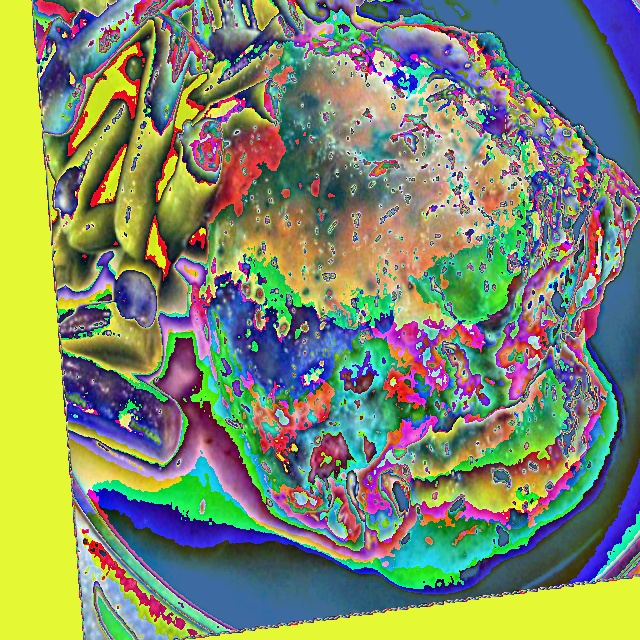background: (37, 0, 639, 554), (2, 0, 36, 2)
